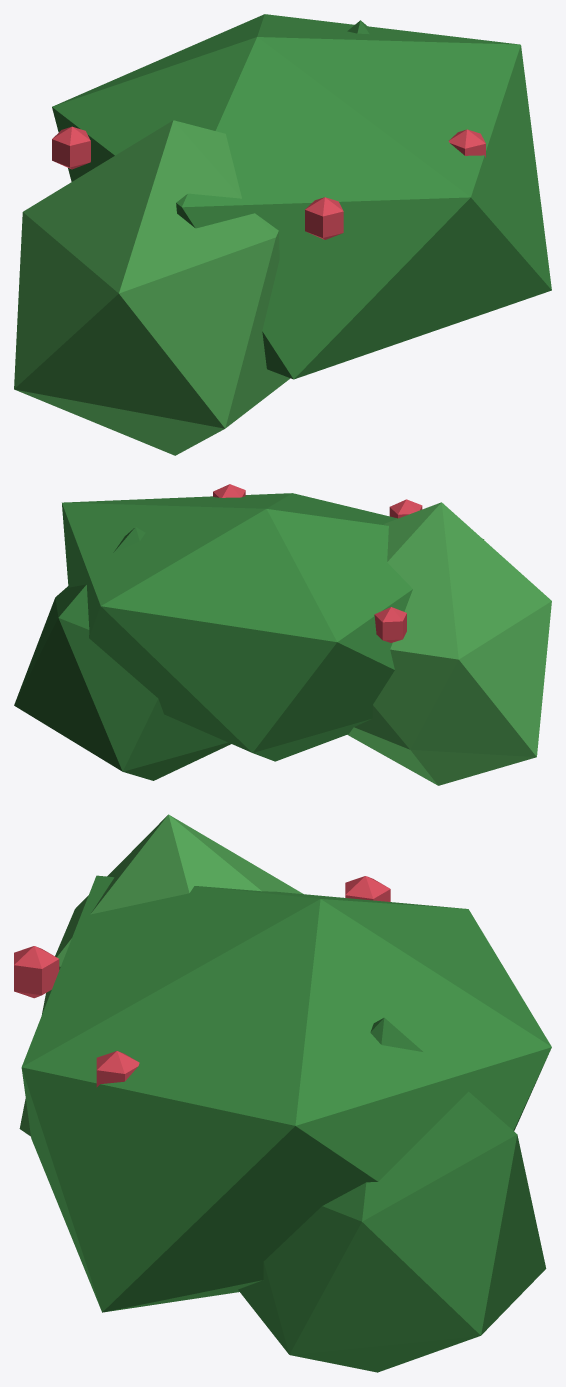
File: bush.fbx
The picture shows the model from 3 angles, top to bottom: view 1: azimuth 30°, elevation 25°; view 2: azimuth 150°, elevation 25°; view 3: azimuth 270°, elevation 25°; orthographic projection. The views are drawn at different scales.
Parts seen in each view (by area): view 1: bush; view 2: bush; view 3: bush.
Boxes of the visible parts, x1=… form: bush: x1=14, y1=14, x2=551, y2=455; bush: x1=14, y1=484, x2=551, y2=785; bush: x1=14, y1=814, x2=551, y2=1372.
Bounding box in the file's own units: 3.65 × 2.21 × 2.6.
